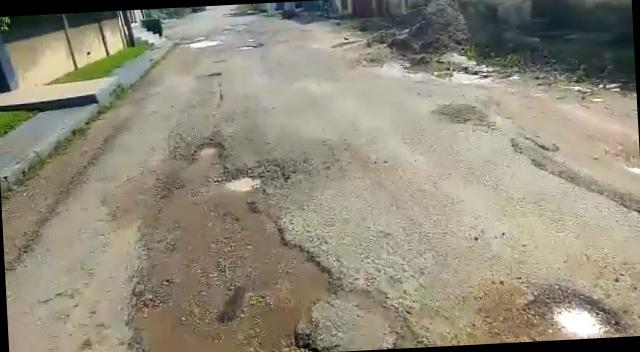pothole: (524, 280, 626, 340), (224, 161, 296, 201), (188, 139, 228, 163)
